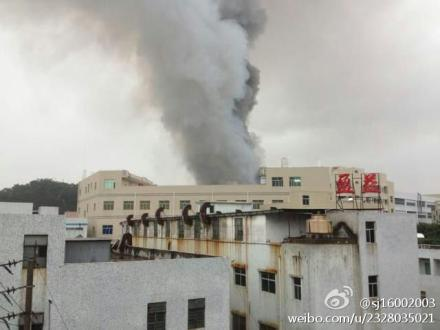smoke: (116, 4, 266, 182)
